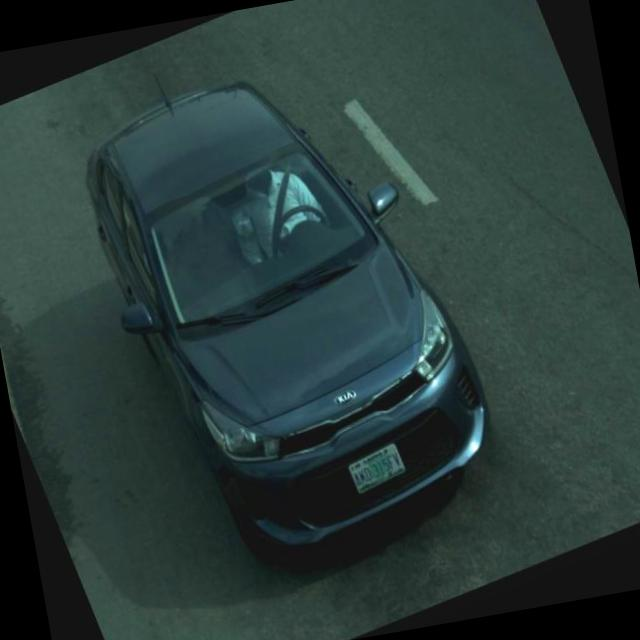person_with_seatbelt: (216, 147, 338, 282)
